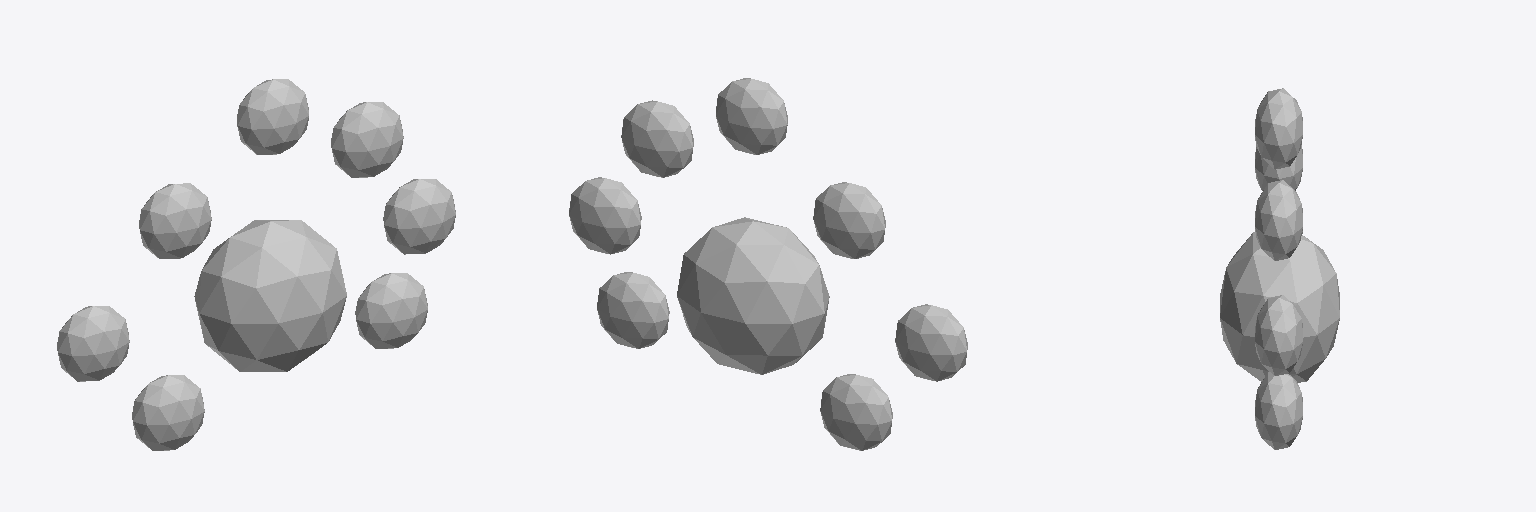
File: collision_boules_V3.obj
3 renders of one model, left to right at view 1: azimuth 30°, elevation 25°; view 2: azimuth 150°, elevation 25°; view 3: azimuth 270°, elevation 25°, orthographic.
Visible parts, largest first — view 1: collision_boules_V3.obj; view 2: collision_boules_V3.obj; view 3: collision_boules_V3.obj.
Part boxes in pixels (x1,y1,x2,y2): collision_boules_V3.obj: (57, 79, 455, 450); collision_boules_V3.obj: (569, 78, 967, 450); collision_boules_V3.obj: (1220, 88, 1339, 449).
Size of the model in its own units: 22.79 by 18.93 by 5.97.